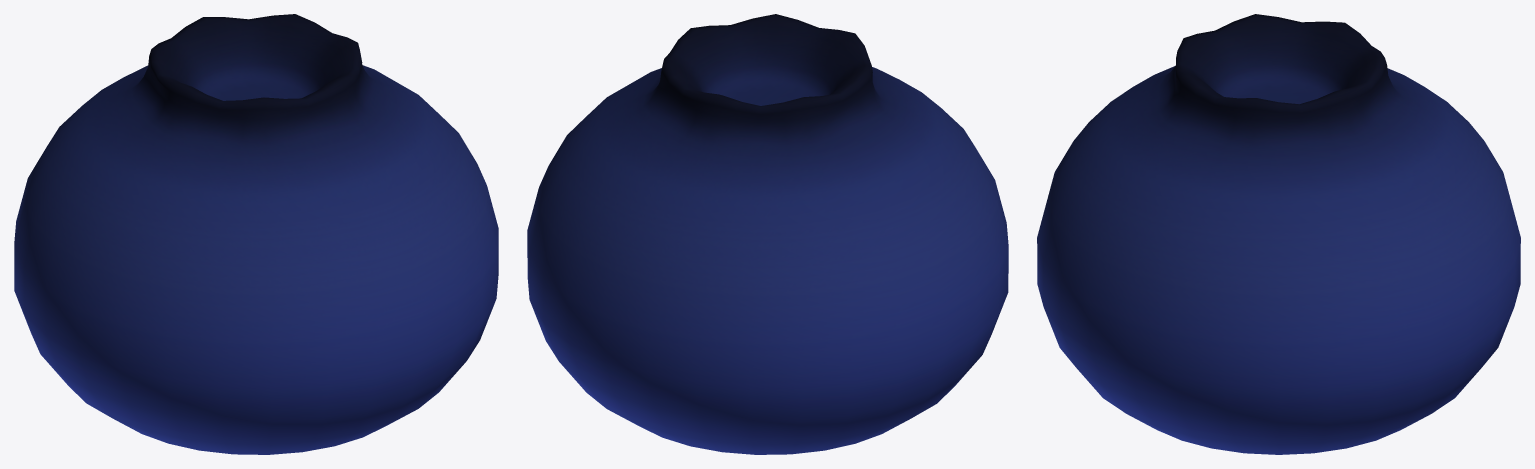
Rendered from blueverries.FBX.
3 renders of one model, left to right at view 1: azimuth 30°, elevation 25°; view 2: azimuth 150°, elevation 25°; view 3: azimuth 270°, elevation 25°, orthographic.
Parts seen in each view (by area): view 1: Sphere016; view 2: Sphere016; view 3: Sphere016.
Boxes of the visible parts, left/top/right/bottom form: Sphere016: left=14, top=14, right=498, bottom=454; Sphere016: left=527, top=14, right=1008, bottom=454; Sphere016: left=1037, top=14, right=1520, bottom=454.
Size of the model in its own units: 98.01 by 81.88 by 98.04.
